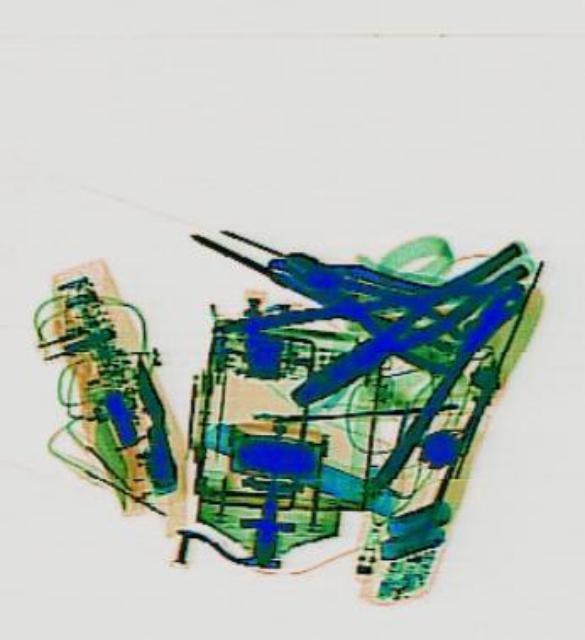Pliers: (278, 234, 535, 418), (267, 224, 472, 384), (258, 235, 457, 343)
